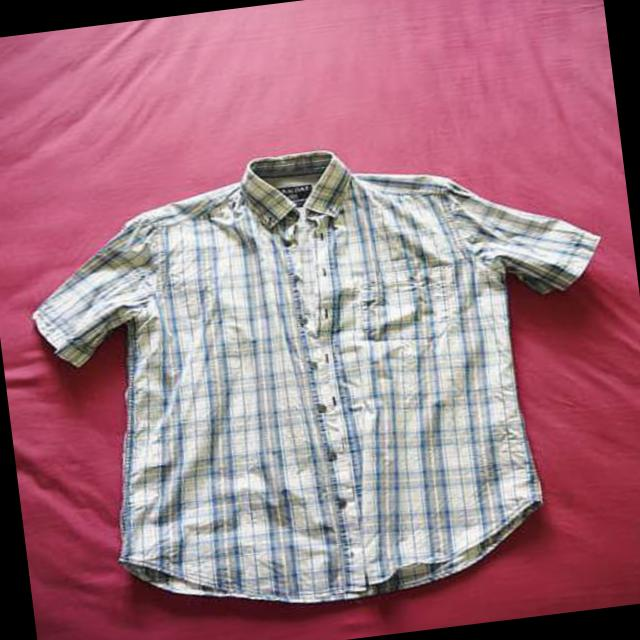SHIRT: (9, 110, 640, 640)
